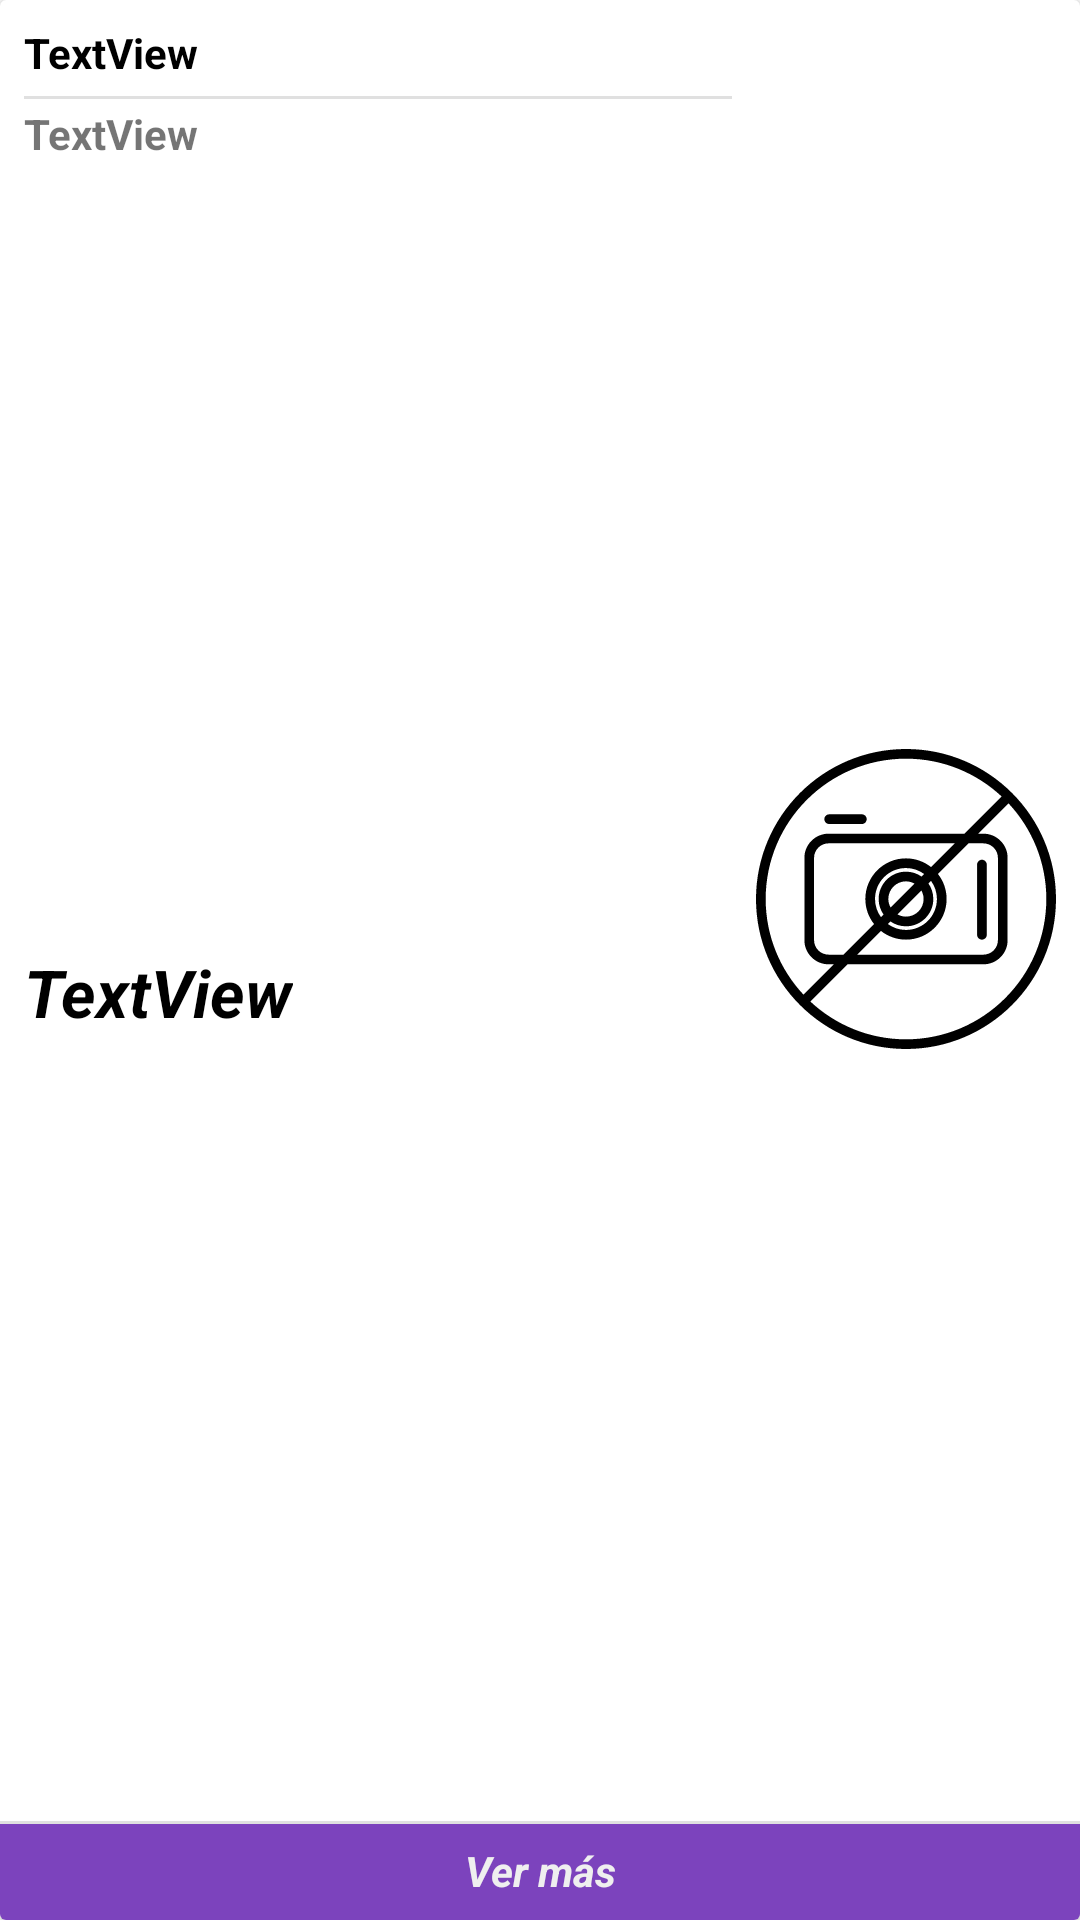

Icons on this 1080x1920 Android screen, each with its box as (x1, y1, x2, y2):
no picture taking allowed: (756, 749, 1056, 1049)
